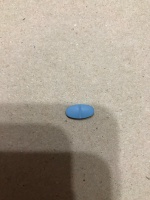Majezik: (63, 102, 96, 121)
